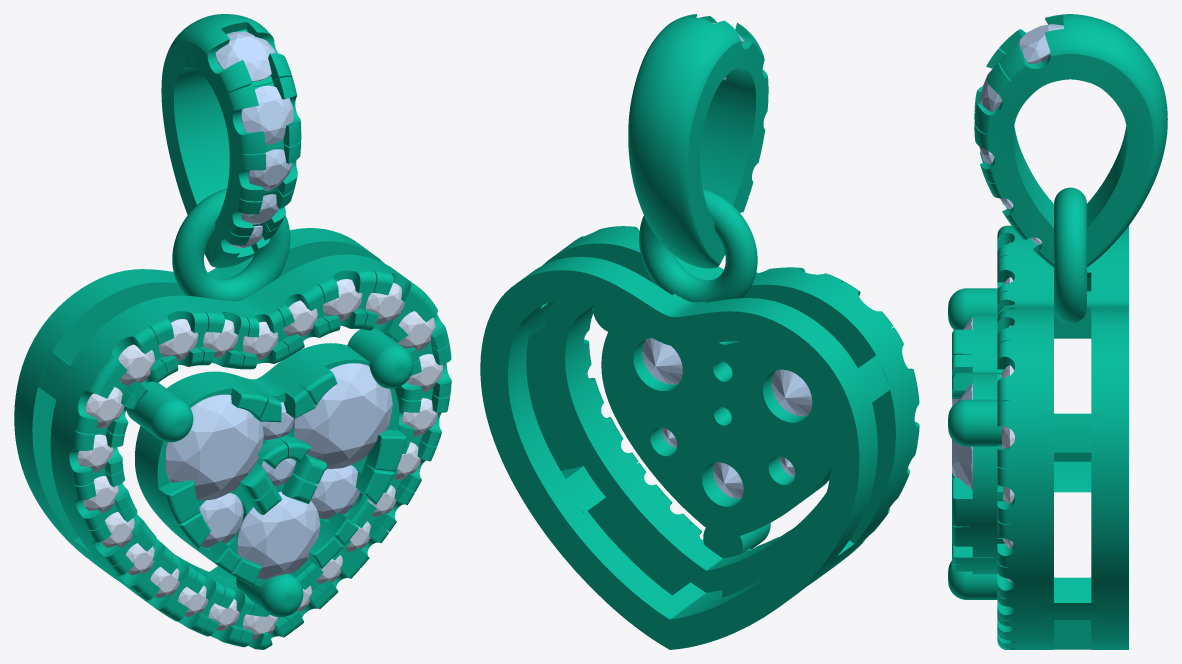
The picture shows the model from 3 angles, left to right: view 1: azimuth 30°, elevation 25°; view 2: azimuth 150°, elevation 25°; view 3: azimuth 270°, elevation 25°; orthographic projection. The views are drawn at different scales.
Visible parts, largest first — view 1: VBP157(front).3dm, Diamond_Round (×26); view 2: VBP157(front).3dm, Diamond_Round (×3); view 3: VBP157(front).3dm, Diamond_Round (×3).
Boxes of the visible parts, x1,y1,x2,y2 form: VBP157(front).3dm: [14, 14, 451, 649]; Diamond_Round (×26): [77, 31, 442, 616]; VBP157(front).3dm: [480, 14, 919, 649]; Diamond_Round (×3): [642, 338, 812, 498]; VBP157(front).3dm: [948, 14, 1167, 649]; Diamond_Round (×3): [952, 24, 1063, 489].
Size of the model in its own units: 2.11 by 3.24 by 1.03.
